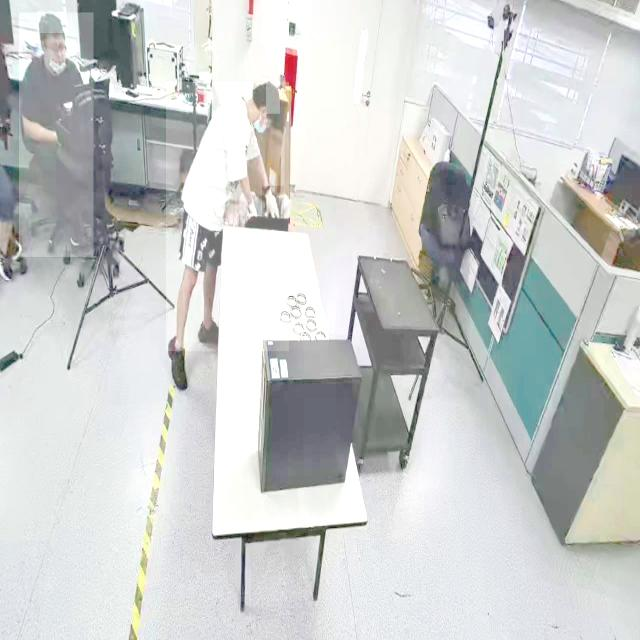face_mask: (254, 108, 270, 140)
face_nomask: (52, 35, 66, 65)
hand_glove: (262, 186, 284, 225)
head_nohelmet: (38, 12, 64, 34), (266, 79, 280, 114)
person: (166, 82, 290, 352), (19, 12, 94, 258)
shoes: (165, 332, 191, 395), (193, 315, 231, 345)
